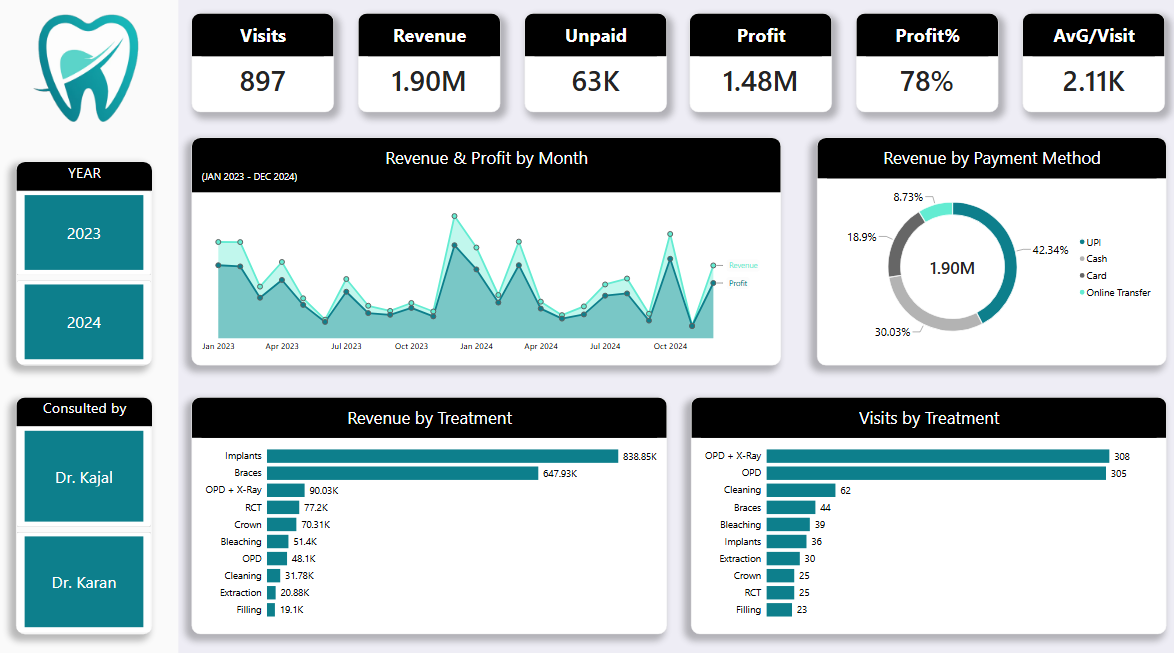

The dashboard page shown, as its layout file describes it:
{"tool":"powerbi","page":{"name":"Overview","canvas":[1980,1120],"ordinal":0},"visuals":[{"type":"image","box":[17.5,0,300,252.5],"z":0},{"type":"card","title":"Visits","fields":{"Values":["_measure.Total Visits"]},"box":[337.5,45,237.5,165],"z":1000},{"type":"card","title":"Revenue","fields":{"Values":["_measure.Revenue"]},"box":[614.5,45,237.5,165],"z":2000},{"type":"card","title":"Unpaid","fields":{"Values":["_measure.Outstanding due"]},"box":[891.5,45,237.5,165],"z":3000},{"type":"card","title":"Profit","fields":{"Values":["_measure.Profit"]},"box":[1168.5,45,237.5,165],"z":4000},{"type":"card","title":"Profit%","fields":{"Values":["_measure.profit%"]},"box":[1445.5,45,237.5,165],"z":5000},{"type":"card","title":"AvG/Visit","fields":{"Values":["_measure.AoV"]},"box":[1722.5,45,237.5,165],"z":6000},{"type":"lineChart","title":"Revenue & Profit by Month","fields":{"Category":["final_data_mldc.Visit Month.Variation.Date Hierarchy.Year","final_data_mldc.Visit Month.Variation.Date Hierarchy.Month"],"Y":["_measure.Revenue","_measure.Profit"]},"box":[337.5,252.5,982.5,380],"z":7000},{"type":"barChart","title":"Revenue by Treatment","fields":{"Category":["final_data_mldc.Treatment"],"Y":["_measure.Revenue"]},"box":[337.5,685,792.5,395],"z":8000},{"type":"barChart","title":"Visits by Treatment","fields":{"Category":["final_data_mldc.Treatment"],"Y":["_measure.Total Visits"]},"box":[1170,685,792.5,395],"z":9000},{"type":"donutChart","title":"Revenue by Payment Method ","fields":{"Category":["final_data_mldc.Payment Method"],"Y":["_measure.Revenue"]},"box":[1380,252.5,582.5,380],"z":10000},{"type":"advancedSlicerVisual","title":"YEAR","fields":{"Values":["final_data_mldc.Visit Month.Variation.Date Hierarchy.Year"]},"box":[45,292.5,227.5,340],"z":11000},{"type":"advancedSlicerVisual","title":"Consulted by","fields":{"Values":["final_data_mldc.Consulted By"]},"box":[45,685,227.5,395],"z":12000}]}

Visuals, with their boxes in screenshot pixels (x1, y1, x2, y2), scaled from the page's 1980x1120 canvas onto the 1174x653 screenshot:
image: bbox=(10, 0, 188, 147)
"Visits" card: bbox=(200, 26, 341, 122)
"Revenue" card: bbox=(364, 26, 505, 122)
"Unpaid" card: bbox=(529, 26, 669, 122)
"Profit" card: bbox=(693, 26, 834, 122)
"Profit%" card: bbox=(857, 26, 998, 122)
"AvG/Visit" card: bbox=(1021, 26, 1162, 122)
"Revenue & Profit by Month" lineChart: bbox=(200, 147, 783, 369)
"Revenue by Treatment" barChart: bbox=(200, 399, 670, 630)
"Visits by Treatment" barChart: bbox=(694, 399, 1164, 630)
"Revenue by Payment Method " donutChart: bbox=(818, 147, 1164, 369)
"YEAR" advancedSlicerVisual: bbox=(27, 171, 162, 369)
"Consulted by" advancedSlicerVisual: bbox=(27, 399, 162, 630)
